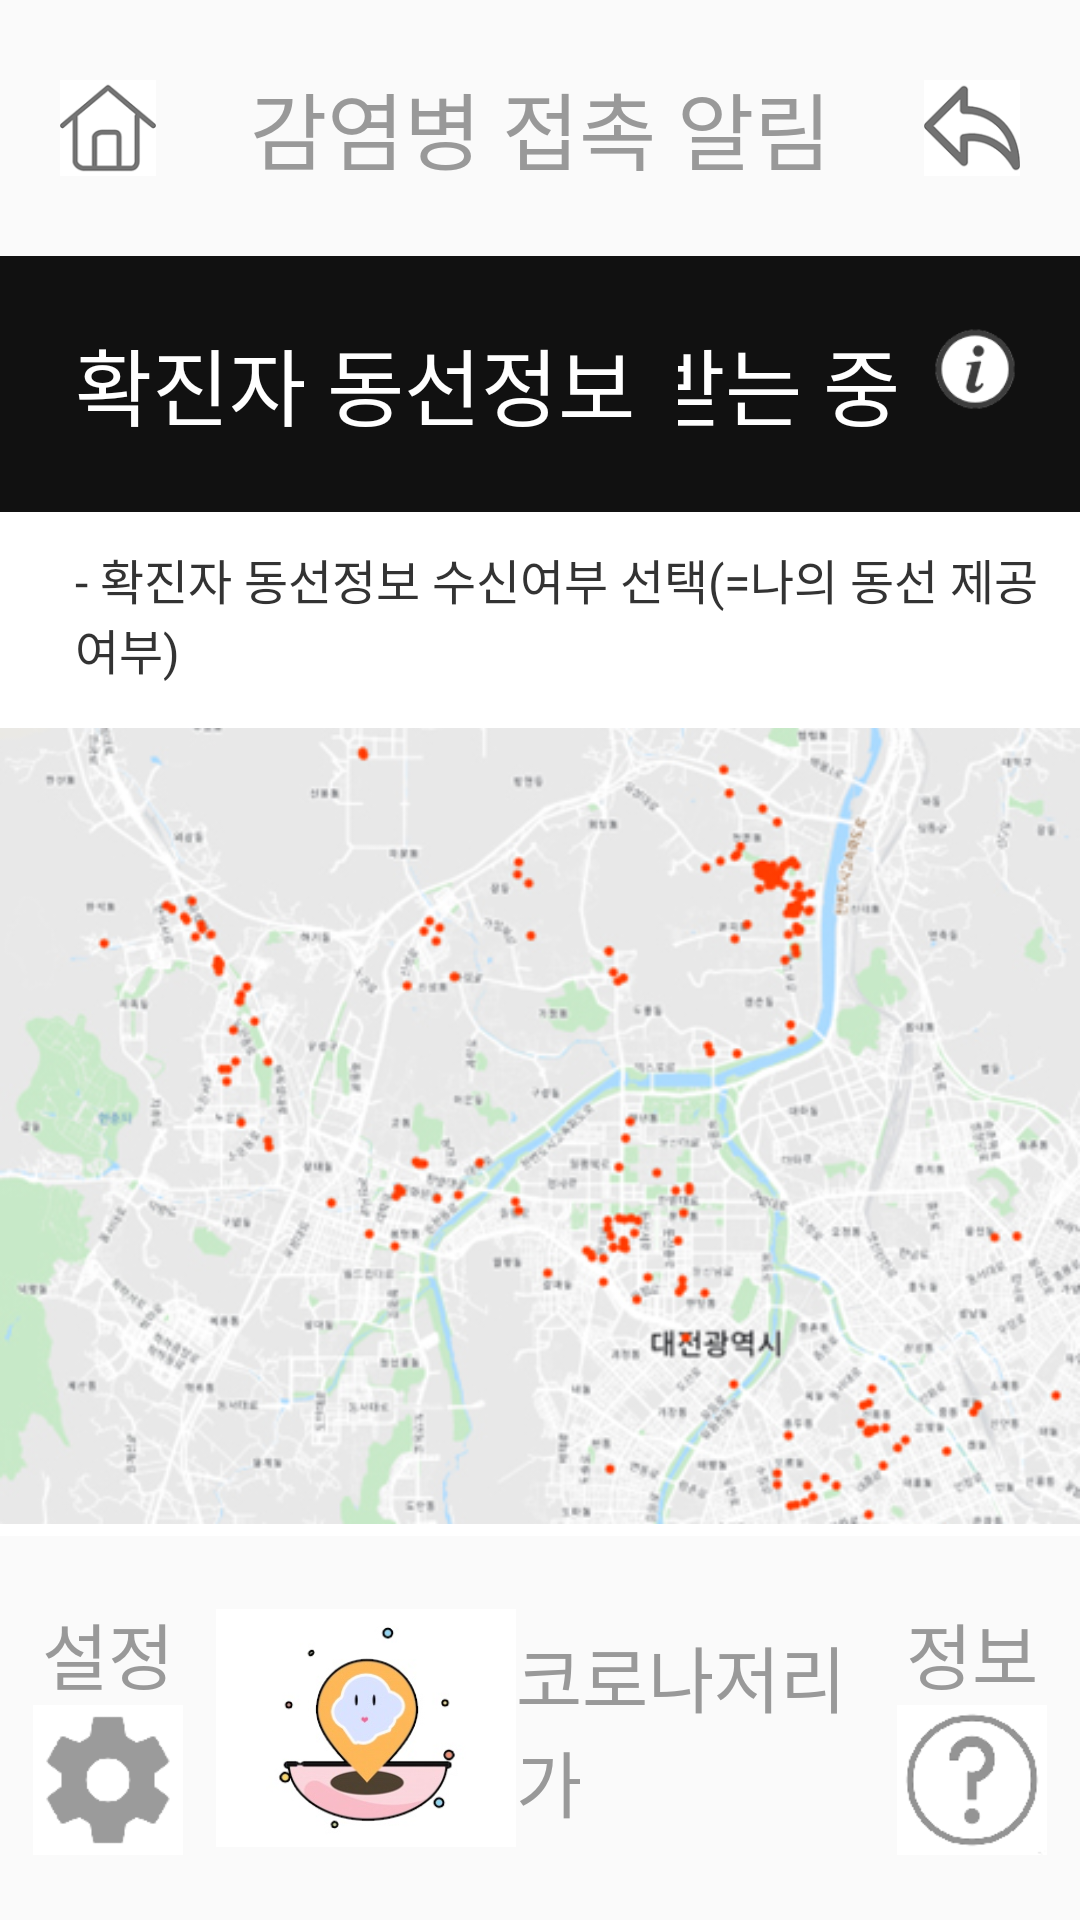

Screen size 1080×1920. Icon name, then its center in pixels as (x=x, y=y):
back: (x=972, y=128)
home: (x=108, y=128)
information: (x=975, y=369)
question: (x=972, y=1780)
setting: (x=108, y=1780)
